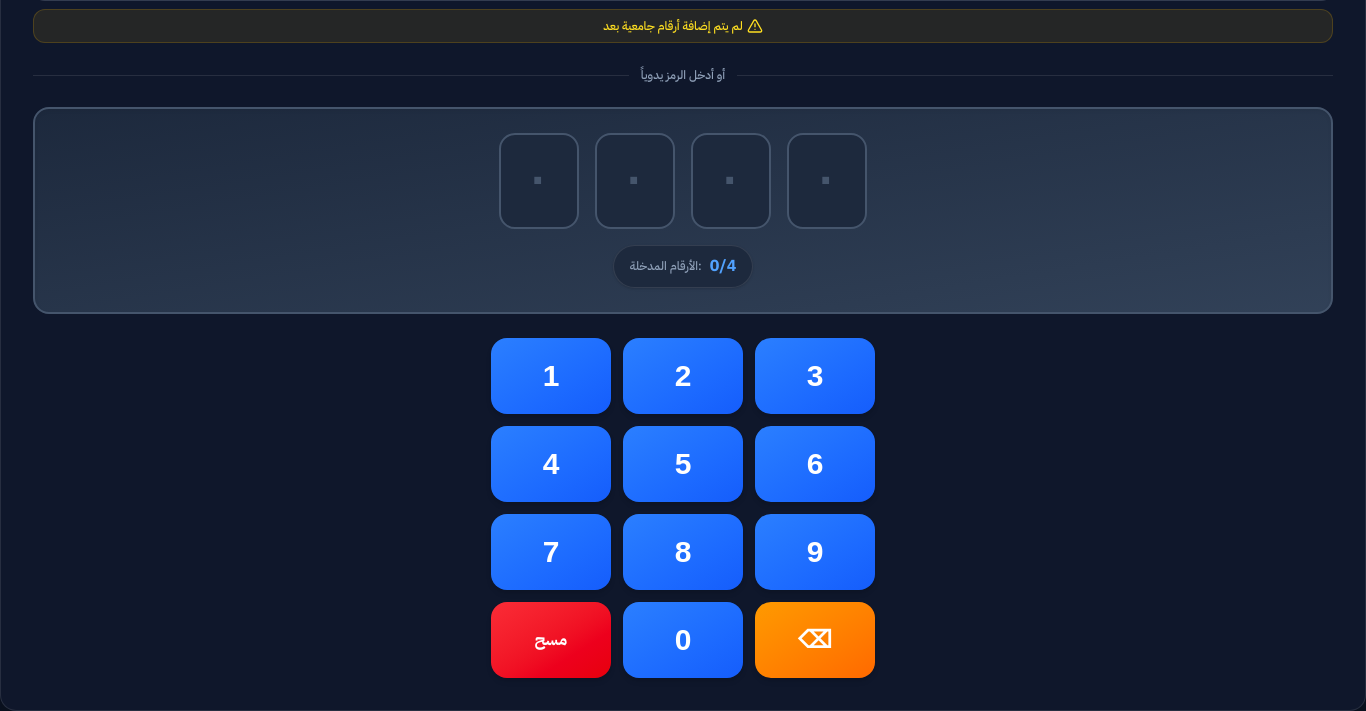
Test: AttendanceLogin › shows error for invalid code
(page scrolled)
Step 1. Click the button "9" → (815, 552), box [755,514,875,590]
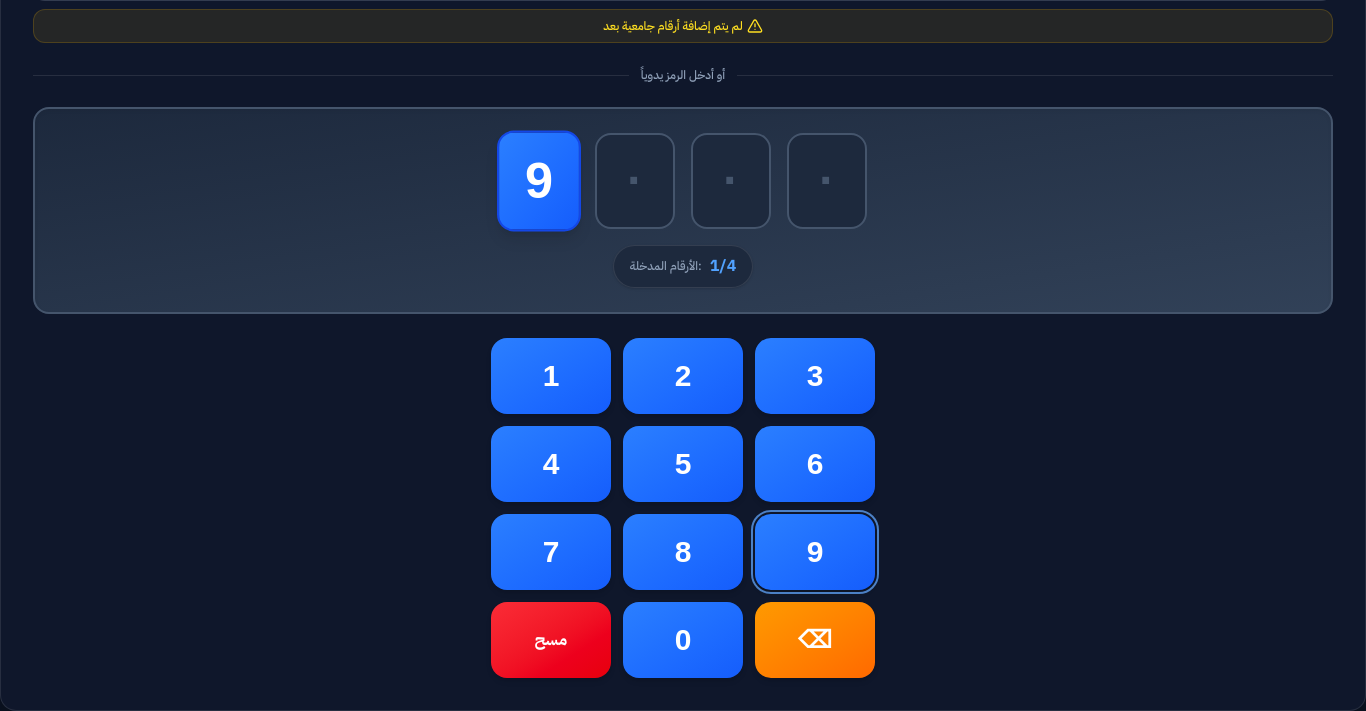
Step 2. Click the button "9" → (815, 552), box [755,514,875,590]
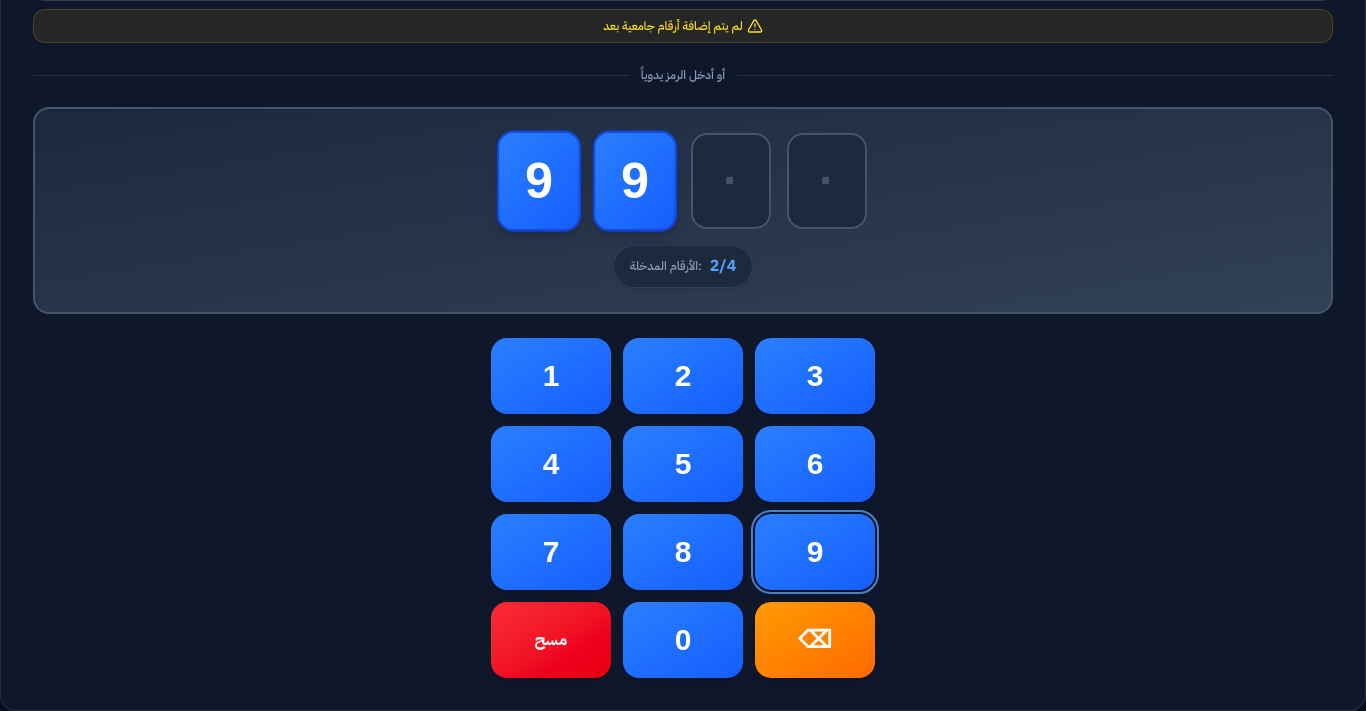
Step 3. Click the button "9" → (815, 552), box [755,514,875,590]
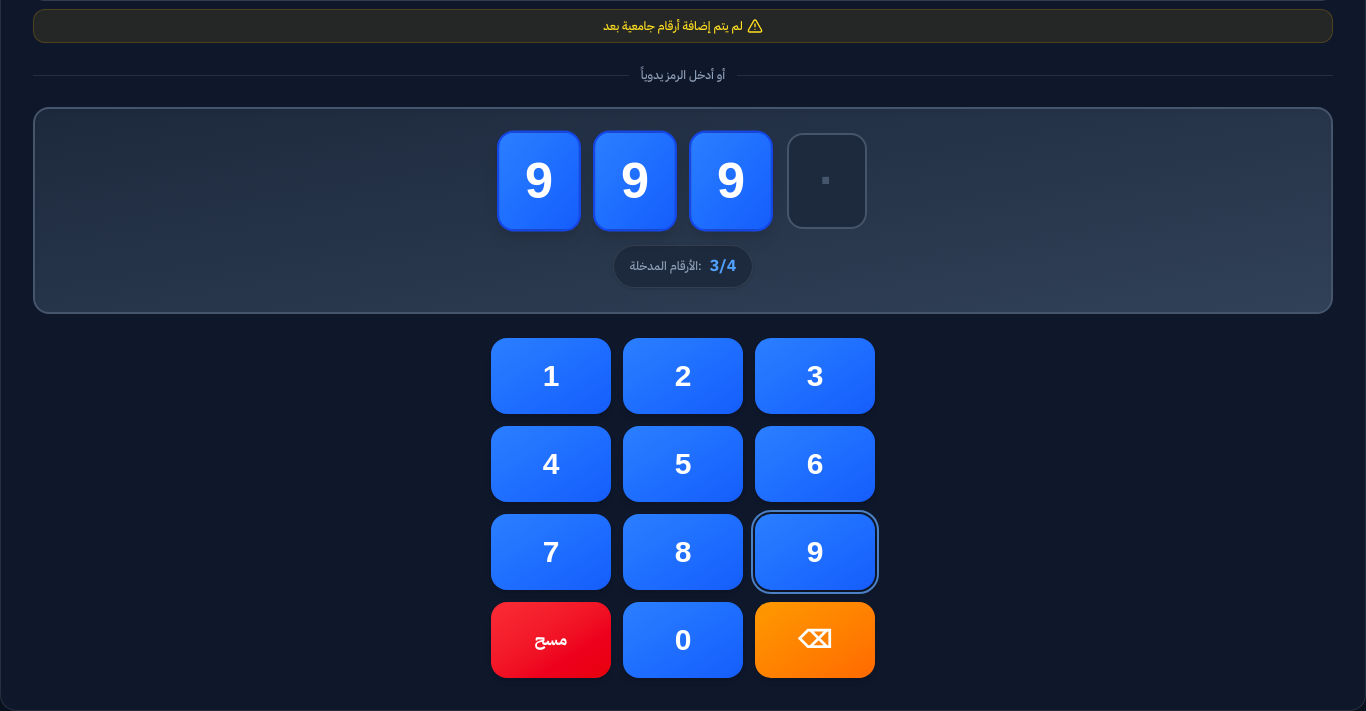
Step 4. Click the button "9" → (815, 552), box [755,514,875,590]
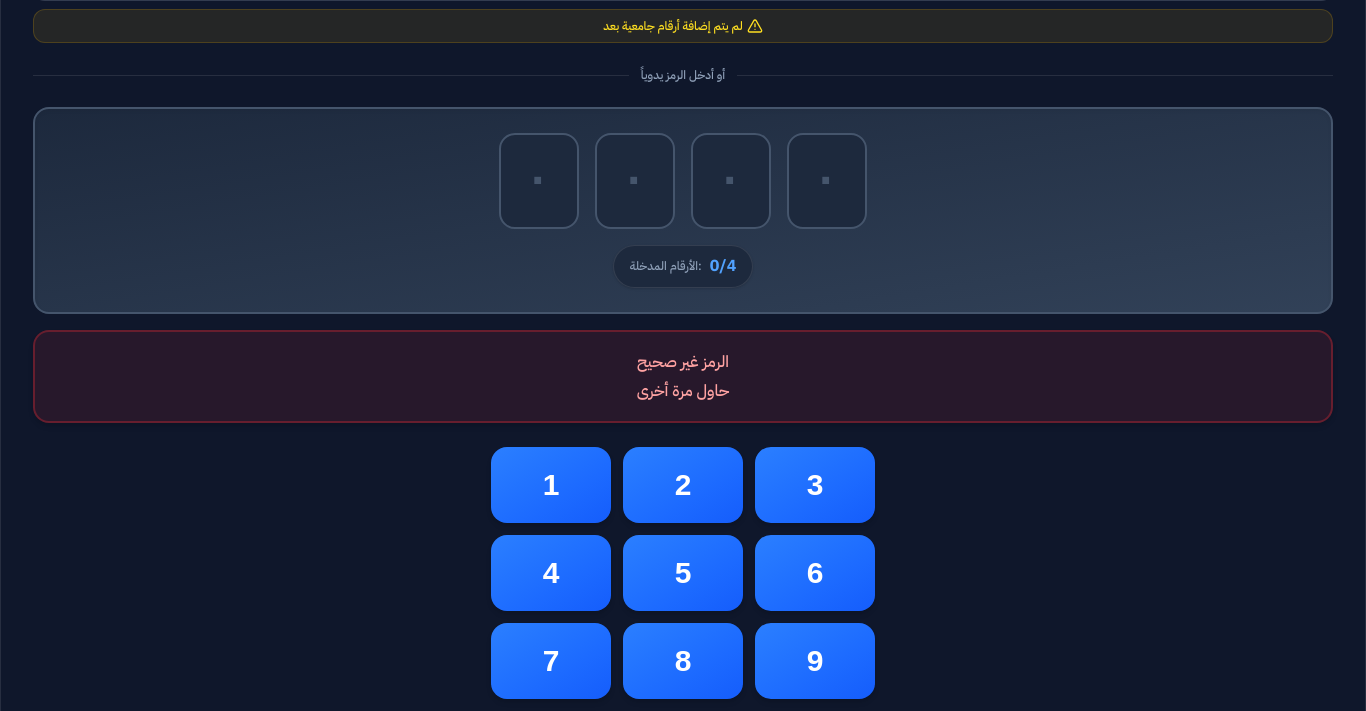
Check: the text "الرمز غير صحيح حاول مرة أخرى" is shown, box [33,330,1333,423]
